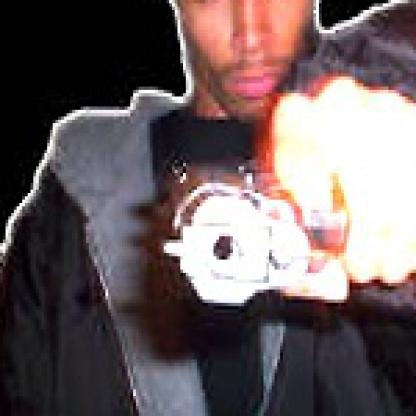gun: (153, 116, 355, 330)
